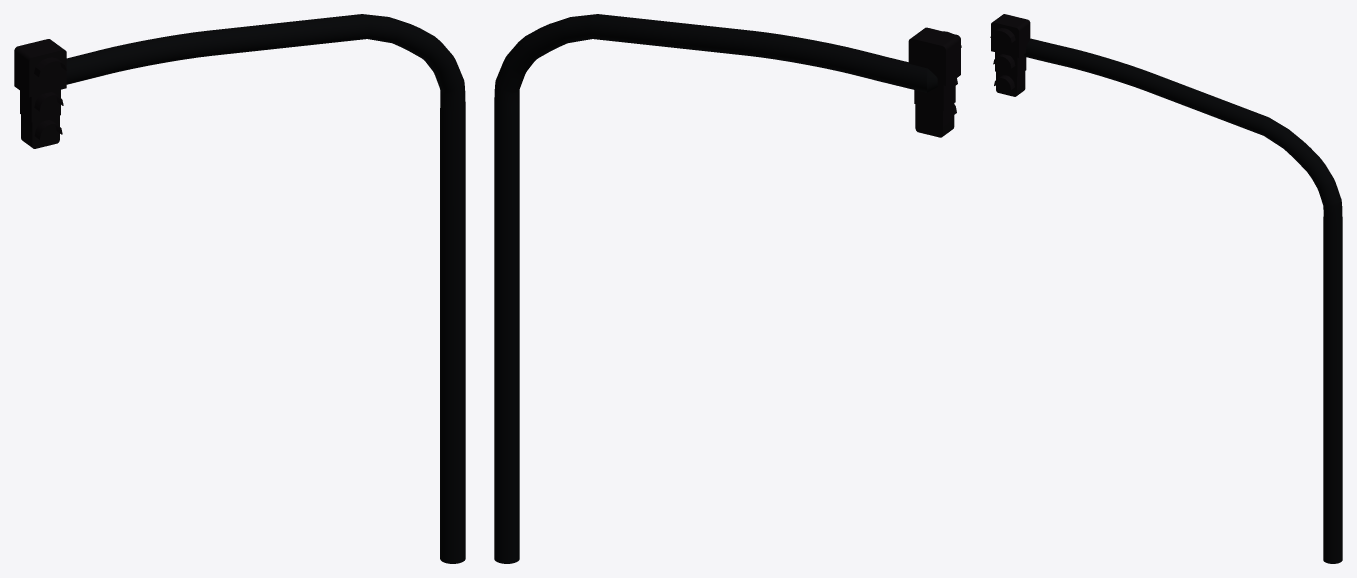
Rendered from Semaforo grande .fbx.
3 views of the same model, side by side, from view 1: azimuth 30°, elevation 25°; view 2: azimuth 150°, elevation 25°; view 3: azimuth 330°, elevation 25° (orthographic). The views are drawn at different scales.
Visible parts, largest first — view 1: Semaforo; view 2: Semaforo; view 3: Semaforo.
Part boxes in pixels (left/top/right/bottom): Semaforo: left=14, top=14, right=465, bottom=563; Semaforo: left=494, top=14, right=961, bottom=563; Semaforo: left=990, top=14, right=1342, bottom=563.
Size of the model in its own units: 443 by 581 by 45.77.
Materials: 1 (1 with a texture image).
